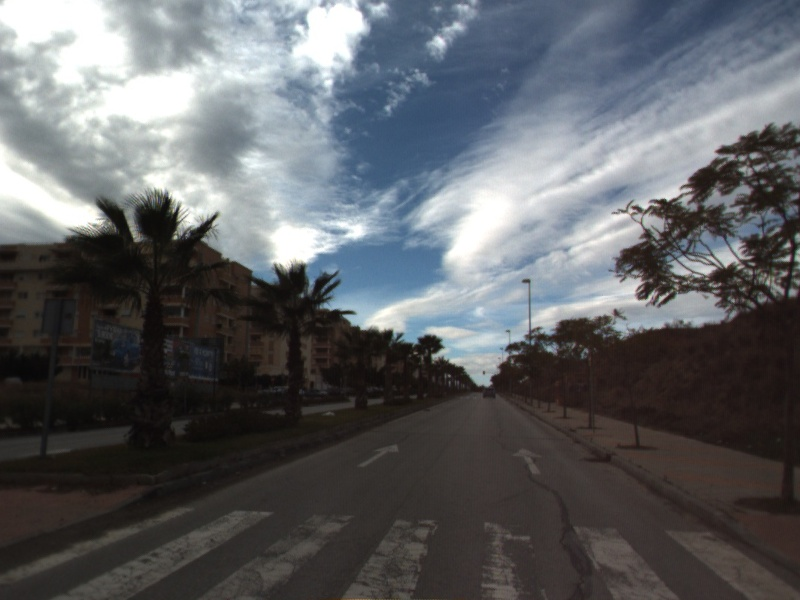STRAIGHT: (355, 442, 401, 469), (510, 445, 545, 476)
